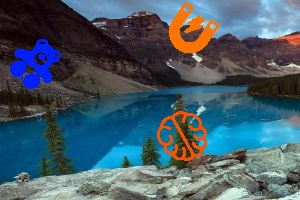吸铁石: (169, 3, 218, 53)
小熊: (11, 40, 59, 86)
脑子: (159, 112, 207, 160)
